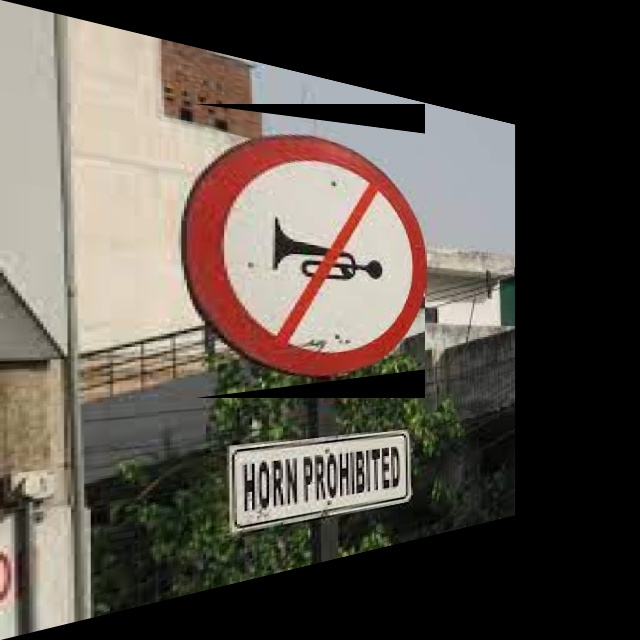Horn_Prohibited: (195, 104, 425, 398)
